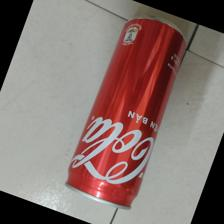Coca: (64, 15, 186, 212)
